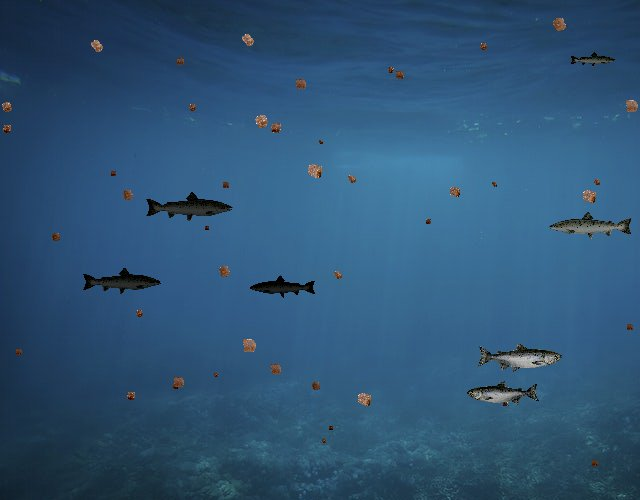Fish: (145, 190, 235, 223), (548, 210, 634, 241), (476, 342, 562, 373), (82, 266, 163, 295), (467, 380, 540, 406), (250, 274, 318, 298), (570, 52, 617, 69)
Pellet: (0, 96, 18, 118), (342, 170, 361, 189), (391, 66, 408, 84), (422, 215, 435, 228), (107, 167, 119, 179), (210, 370, 220, 380)
